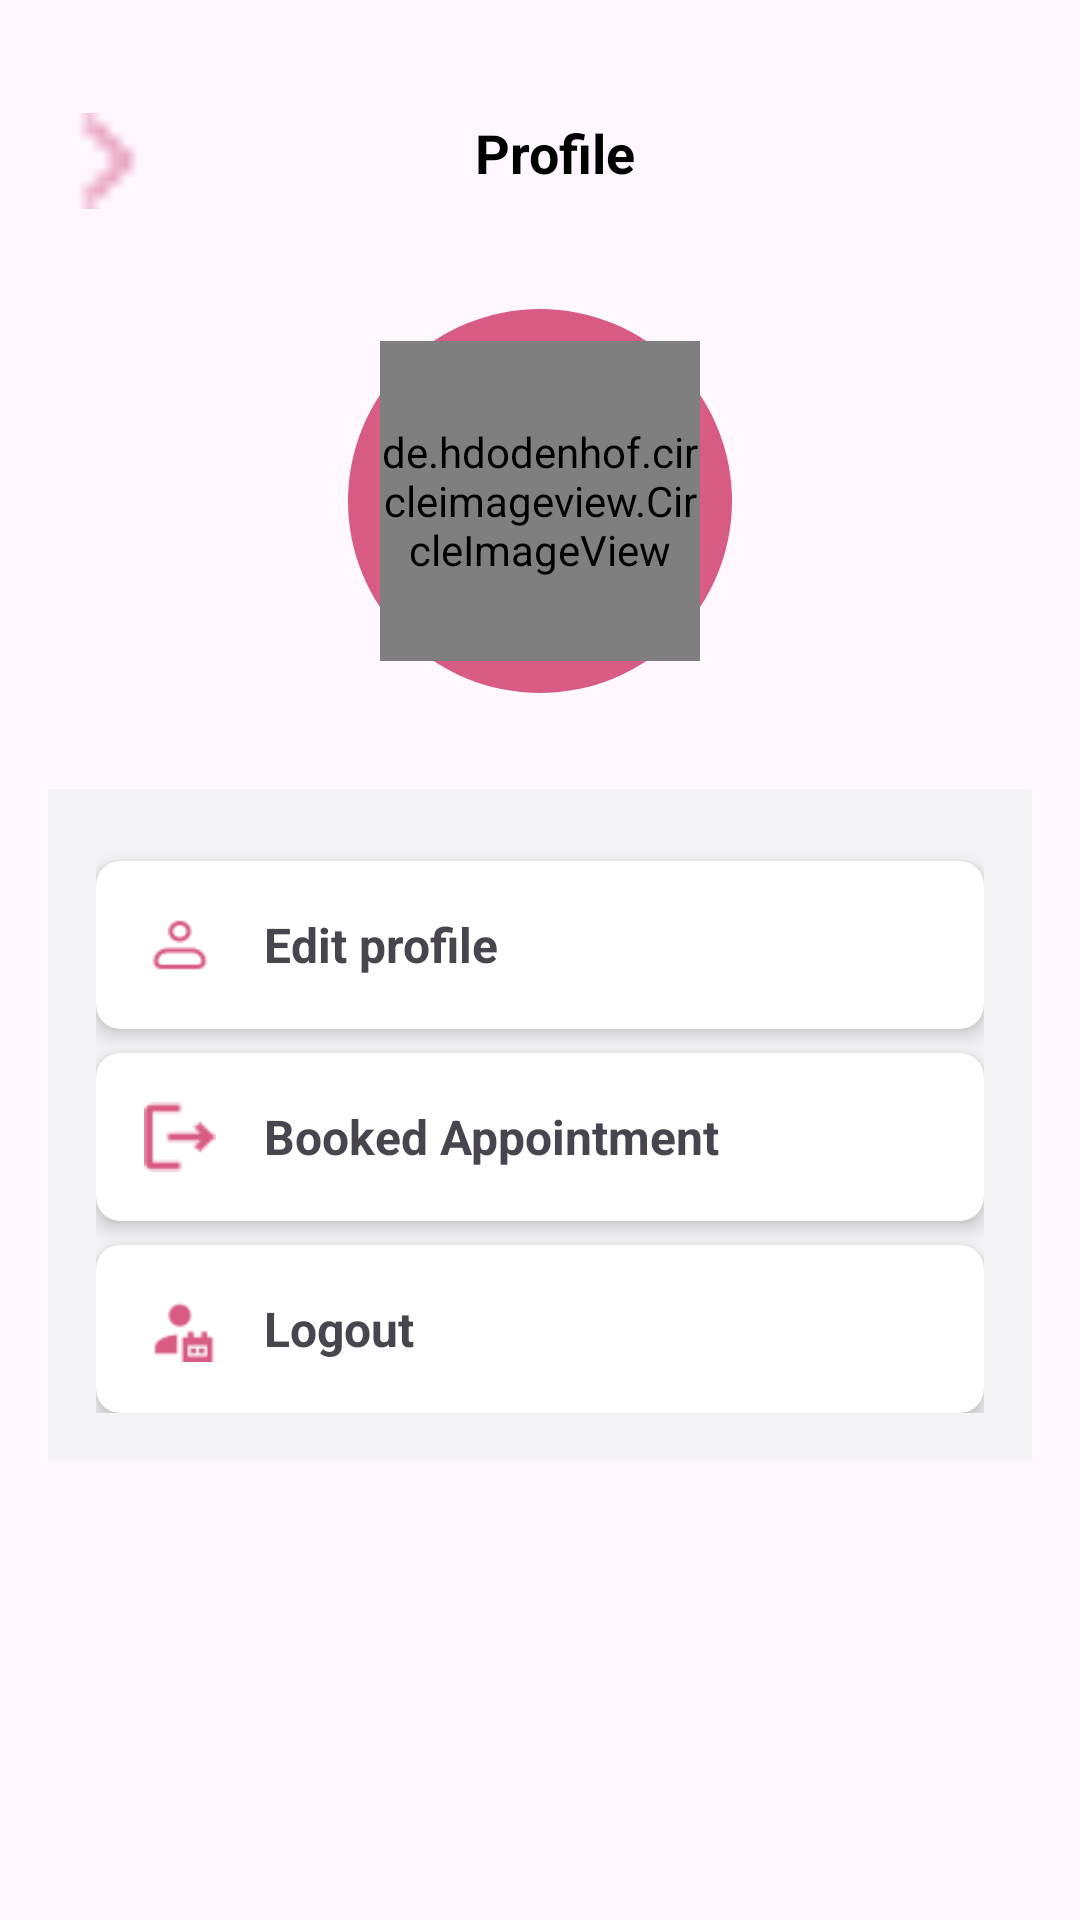

Icons on this 1080 × 1920 Android screen, each with its box as (x1, y1, x2, y2):
forward: (83, 113, 134, 209)
